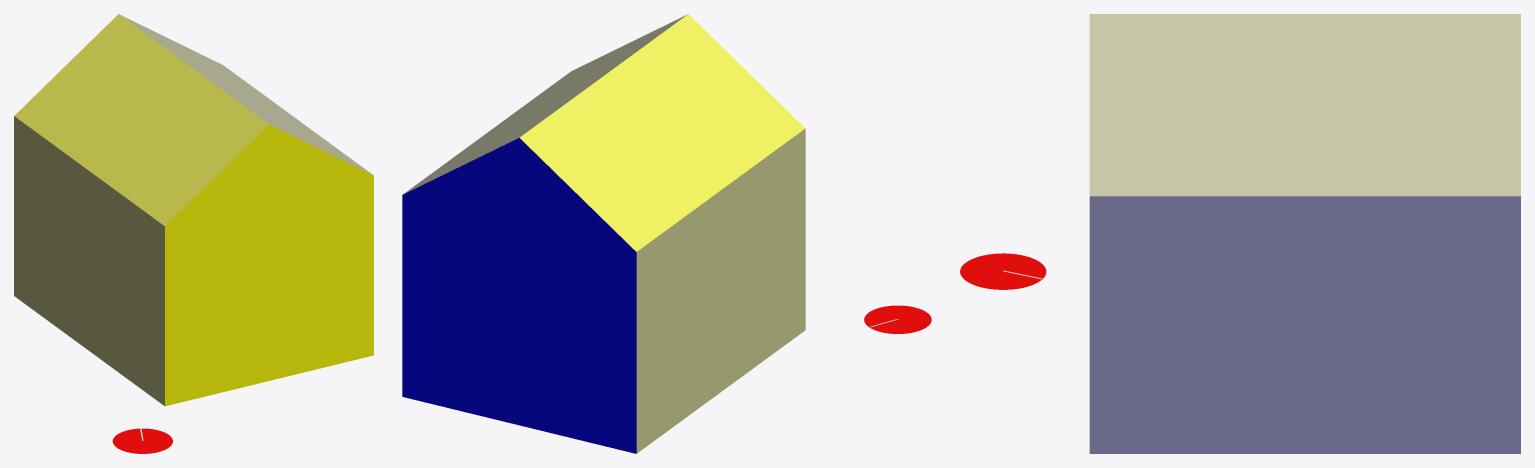
Rendered from result.glb.
3 views of the same model, side by side, from view 1: azimuth 30°, elevation 25°; view 2: azimuth 150°, elevation 25°; view 3: azimuth 270°, elevation 25° (orthographic). The views are drawn at different scales.
Visible parts, largest first — view 1: 5ae9b9ed-ce57-44ba-84e3-242ff9b9a38d__undefined, 698ad4f8-c628-43e7-aefc-c5fb4a15d838__undefined, f01a3377-e0bb-46d0-b391-fe9341788f94__undefined, d79ce64c-2f3f-43b5-bc8f-633575cb9de9__undefined, 53df40c5-2b25-454e-ac27-4564296519df__Circle; view 2: 6475de7e-d8a7-4af3-be6f-13d7ffe0336f__undefined, 698ad4f8-c628-43e7-aefc-c5fb4a15d838__undefined, f01a3377-e0bb-46d0-b391-fe9341788f94__undefined, d79ce64c-2f3f-43b5-bc8f-633575cb9de9__undefined, 53df40c5-2b25-454e-ac27-4564296519df__Circle; view 3: 25628fc8-1a18-4d7d-bba1-83eb76694fc0__undefined, d79ce64c-2f3f-43b5-bc8f-633575cb9de9__undefined, 53df40c5-2b25-454e-ac27-4564296519df__Circle.
Boxes of the visible parts, x1,y1,x2,y2 form: 5ae9b9ed-ce57-44ba-84e3-242ff9b9a38d__undefined: (165,124,373,406); 698ad4f8-c628-43e7-aefc-c5fb4a15d838__undefined: (14,116,164,405); f01a3377-e0bb-46d0-b391-fe9341788f94__undefined: (14,14,268,225); d79ce64c-2f3f-43b5-bc8f-633575cb9de9__undefined: (119,14,372,174); 53df40c5-2b25-454e-ac27-4564296519df__Circle: (112,428,172,453); 6475de7e-d8a7-4af3-be6f-13d7ffe0336f__undefined: (402,138,636,453); 698ad4f8-c628-43e7-aefc-c5fb4a15d838__undefined: (636,128,805,453); f01a3377-e0bb-46d0-b391-fe9341788f94__undefined: (519,14,805,251); d79ce64c-2f3f-43b5-bc8f-633575cb9de9__undefined: (403,14,687,194); 53df40c5-2b25-454e-ac27-4564296519df__Circle: (864,305,931,333); 25628fc8-1a18-4d7d-bba1-83eb76694fc0__undefined: (1089,196,1520,453); d79ce64c-2f3f-43b5-bc8f-633575cb9de9__undefined: (1089,14,1520,196); 53df40c5-2b25-454e-ac27-4564296519df__Circle: (960,253,1046,289).
Bounding box in the file's own units: 550 × 469 × 650.
